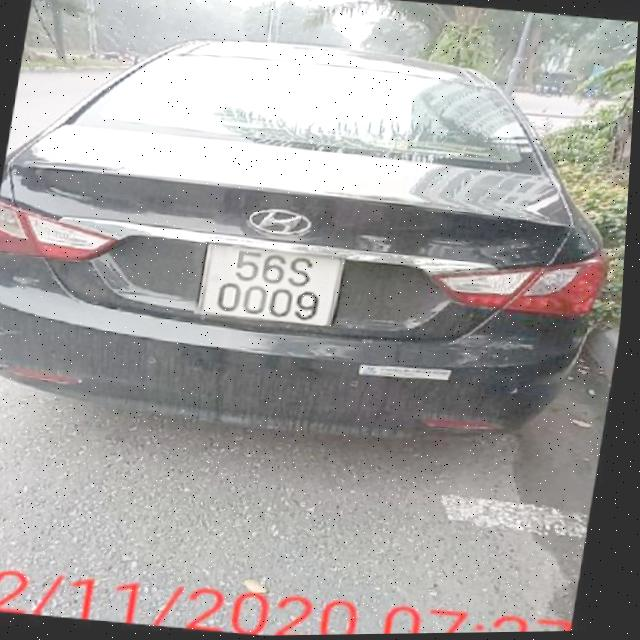car: (0, 1, 639, 458)
plate: (187, 234, 352, 335)
